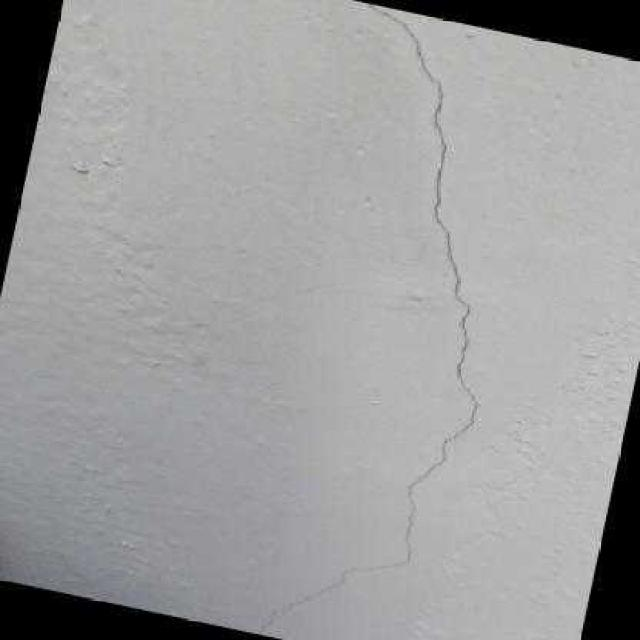D00: (255, 3, 476, 634)
